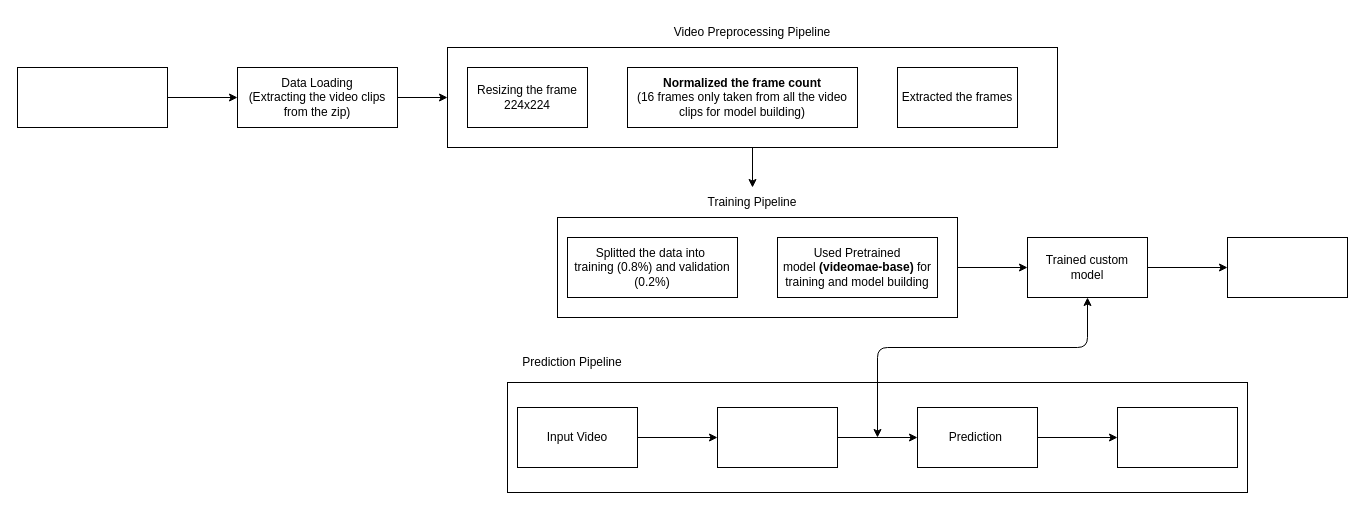
Some shapes in this 1365 by 510 pixel diagram are drawn without their labels. Each missing label, with the box of its shape:
Data Collection (collected from kaggle): (16, 66, 168, 128)
Model Evaluation: (1226, 236, 1348, 298)
Preprocessing using Video Preprocessing Pipeline: (716, 406, 838, 468)
Streamlit app for inference: (1116, 406, 1238, 468)
